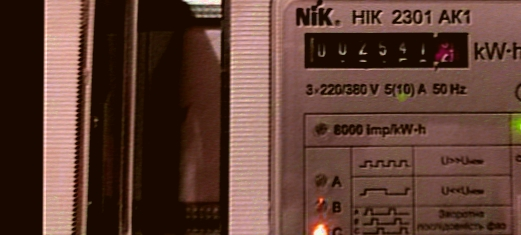0: (315, 36, 328, 58), (336, 35, 348, 56)
1: (417, 33, 428, 56)
2: (356, 34, 370, 56)
4: (397, 33, 408, 54)
5: (376, 34, 389, 57)
6: (439, 49, 450, 61)
screen: (292, 20, 481, 76)
